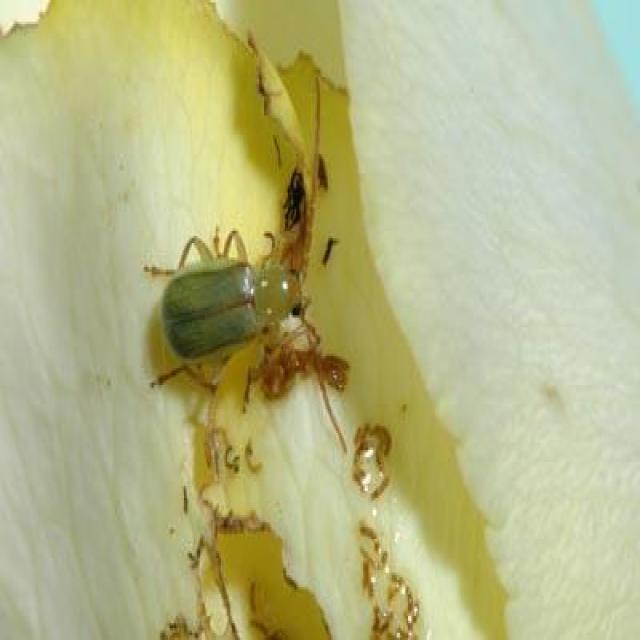gusano_gris: (143, 69, 348, 454)
